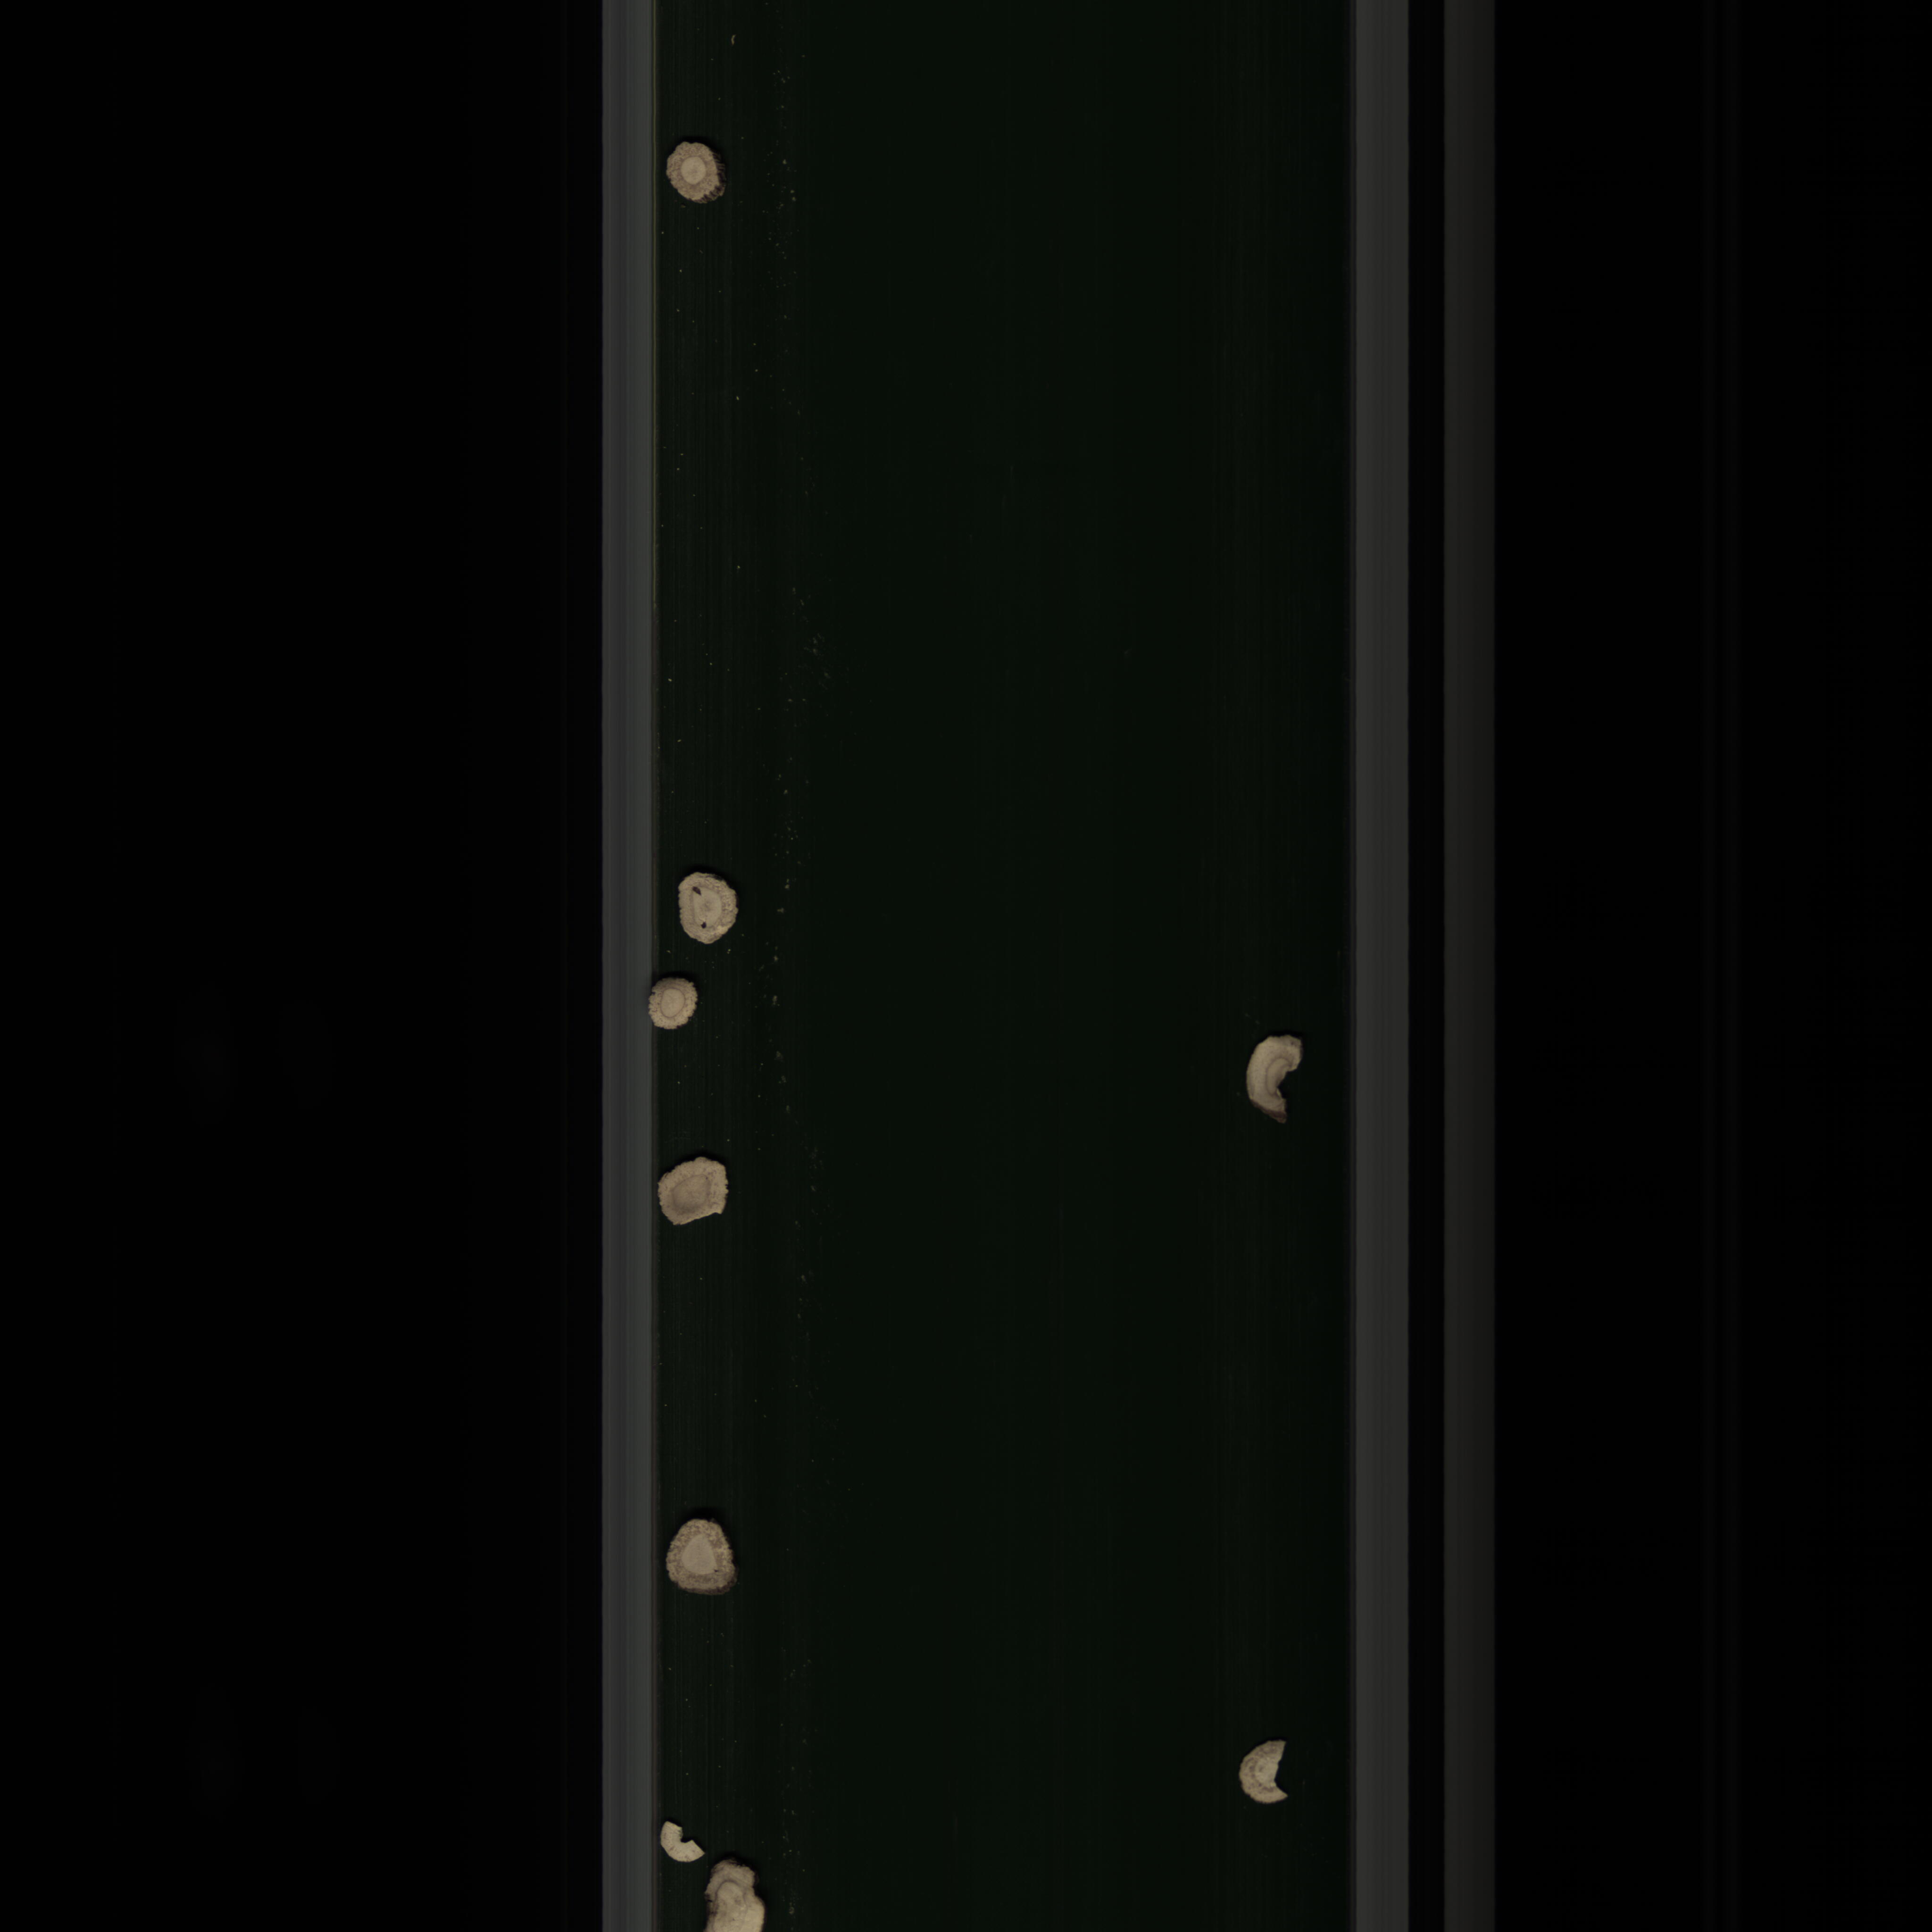debris: (1240, 1024, 1313, 1131), (653, 1152, 734, 1233), (1235, 1730, 1297, 1812), (651, 1815, 706, 1867)
hole: (669, 862, 747, 955)
